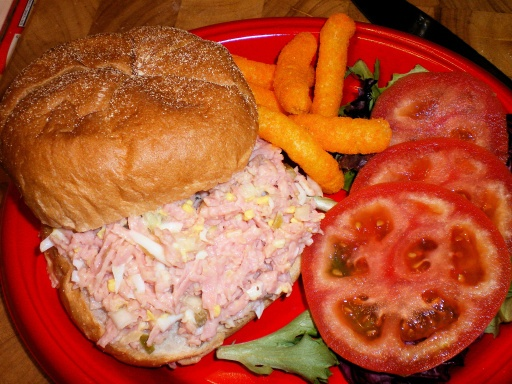background: (0, 7, 410, 230)
